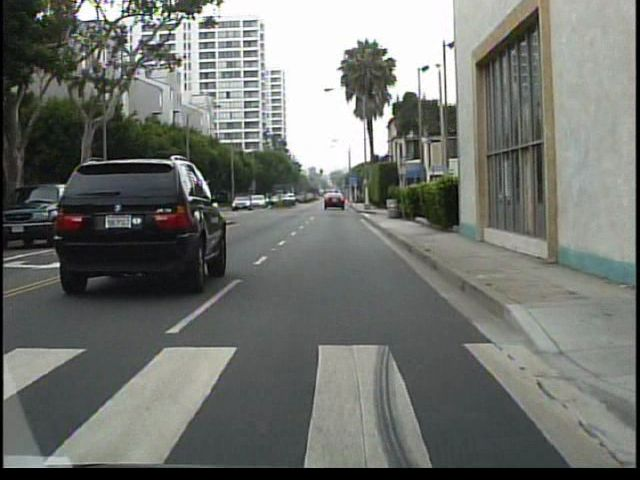car: (29, 154, 227, 301), (1, 173, 61, 241), (322, 189, 349, 209)
striscie pedonali: (9, 340, 539, 470)
